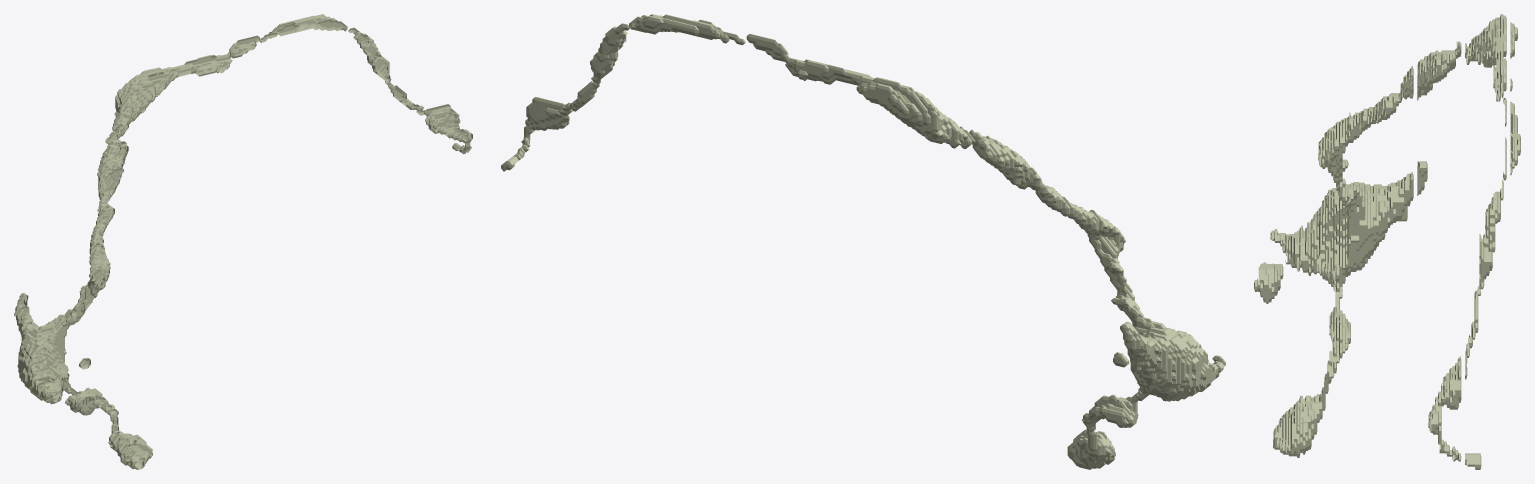
Rendered from SVV_BAGR.gltf.
The picture shows the model from 3 angles, left to right: view 1: azimuth 30°, elevation 25°; view 2: azimuth 150°, elevation 25°; view 3: azimuth 270°, elevation 25°; orthographic projection. The views are drawn at different scales.
Parts seen in each view (by area): view 1: BAGR; view 2: BAGR; view 3: BAGR.
Part boxes in pixels (x1=…): BAGR: x1=14, y1=14, x2=472, y2=469; BAGR: x1=501, y1=14, x2=1225, y2=469; BAGR: x1=1254, y1=14, x2=1520, y2=469.
Bounding box in the file's own units: 115773 × 76352 × 36253.
